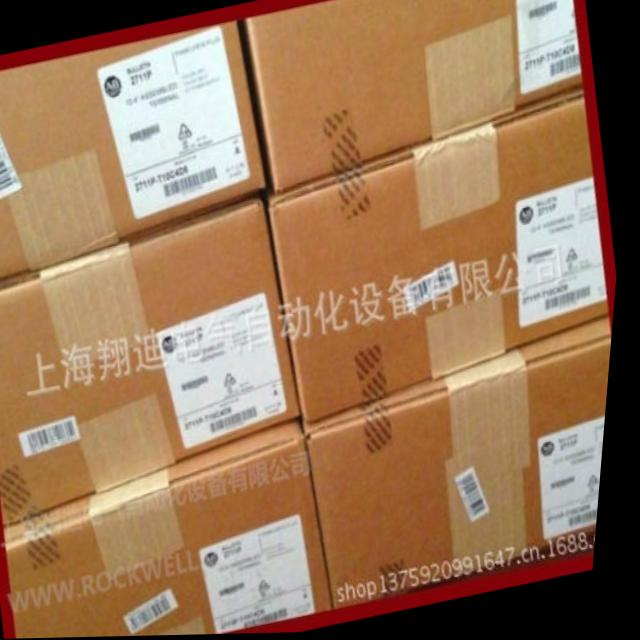box: (273, 92, 616, 426), (0, 190, 310, 530), (313, 318, 617, 609), (14, 415, 343, 639), (0, 24, 271, 283), (243, 0, 587, 195)
